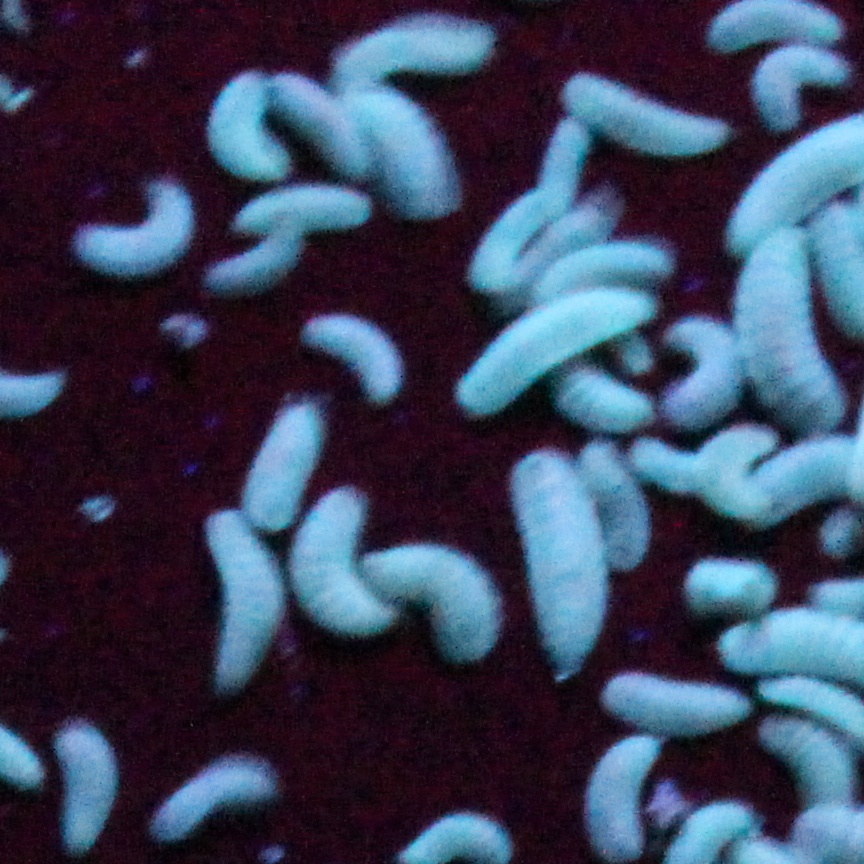larve: (181, 509, 286, 698), (510, 462, 600, 665), (386, 532, 496, 665), (150, 745, 278, 855), (744, 245, 819, 425), (573, 68, 727, 151), (74, 177, 194, 280), (38, 718, 123, 862), (324, 7, 499, 75), (197, 74, 290, 184), (376, 90, 457, 215), (297, 307, 401, 404), (614, 664, 750, 731), (736, 58, 854, 124), (540, 238, 684, 291), (297, 517, 366, 627), (670, 317, 740, 425), (701, 1, 843, 49), (213, 231, 304, 299), (694, 434, 766, 518), (603, 458, 651, 575), (263, 404, 313, 511), (781, 732, 851, 801), (683, 558, 777, 609), (768, 434, 850, 492), (763, 138, 830, 208), (303, 95, 363, 172), (509, 310, 587, 365), (477, 194, 526, 257), (544, 144, 574, 205)
